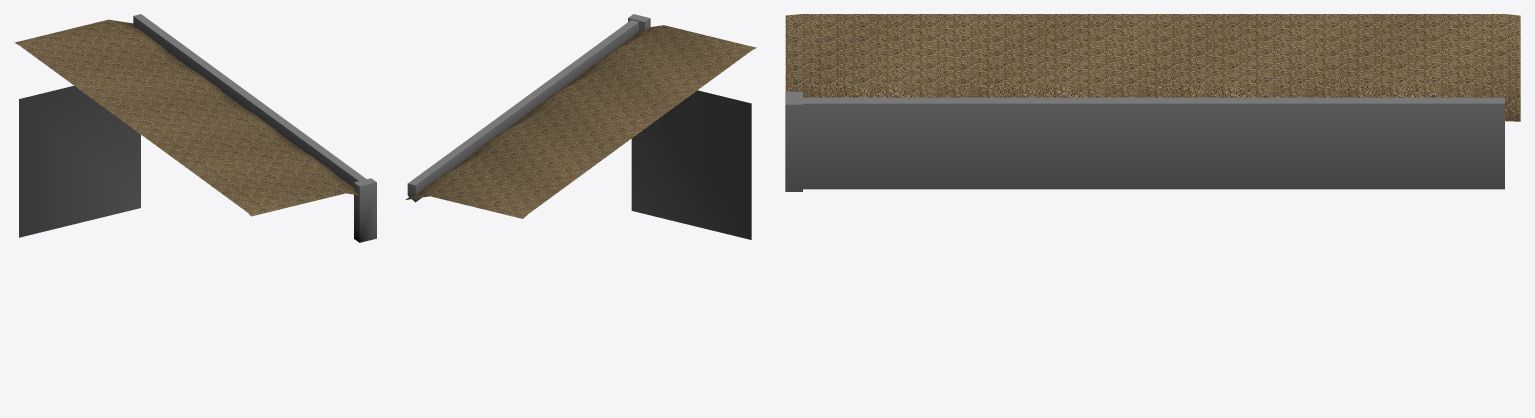
The model's file is BIWA_01_L.glb.
3 views of the same model, side by side, from view 1: azimuth 30°, elevation 25°; view 2: azimuth 150°, elevation 25°; view 3: azimuth 270°, elevation 25° (orthographic). The views are drawn at different scales.
Visible parts, largest first — view 1: Model; view 2: Model; view 3: Model.
Part boxes in pixels (<box>): Model: <box>14,14,376,242</box>; Model: <box>405,14,756,239</box>; Model: <box>785,14,1520,191</box>.
Bounding box in the file's own units: 31.88 × 47.37 × 105.
2 materials, 2 textured.
